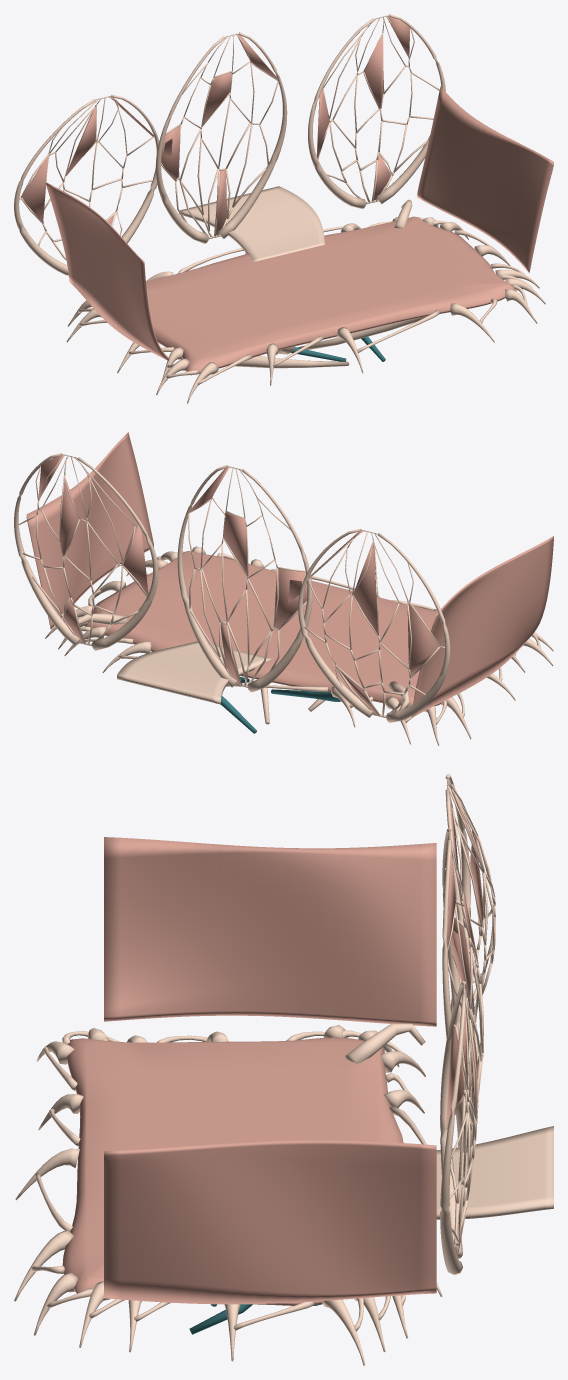
File: membrane_room.glb
3 views of the same model, one above another, from view 1: azimuth 30°, elevation 25°; view 2: azimuth 150°, elevation 25°; view 3: azimuth 270°, elevation 25° (orthographic). The views are drawn at different scales.
Visible parts, largest first — view 1: Continuous_Playable_Membrane, Side_Fold_R, Side_Fold_L, Rear_Folded_Vault_01, Rear_Folded_Vault_02, Growing_Costal_Roots, Rear_Folded_Vault_00, Rear_Meandering_Causeway, Branching_Underside_Rib_00, Branching_Underside_Rib_02; view 2: Continuous_Playable_Membrane, Side_Fold_L, Side_Fold_R, Rear_Folded_Vault_01, Rear_Folded_Vault_00, Rear_Folded_Vault_02, Rear_Meandering_Causeway, Growing_Costal_Roots, Branching_Underside_Rib_01, Rear_Vault_Connecting_Root_01; view 3: Side_Fold_L, Side_Fold_R, Continuous_Playable_Membrane, Growing_Costal_Roots, Rear_Folded_Vault_02, Rear_Meandering_Causeway, Rear_Folded_Vault_01, Rear_Folded_Vault_00, Rear_Vault_Connecting_Root_00.
Part boxes in pixels (<box>): Continuous_Playable_Membrane: <box>146,216,516,375</box>; Side_Fold_R: <box>417,86,553,272</box>; Side_Fold_L: <box>46,182,168,360</box>; Rear_Folded_Vault_01: <box>155,32,287,243</box>; Rear_Folded_Vault_02: <box>308,14,445,208</box>; Growing_Costal_Roots: <box>66,217,545,403</box>; Rear_Folded_Vault_00: <box>14,94,159,275</box>; Rear_Meandering_Causeway: <box>179,186,324,261</box>; Branching_Underside_Rib_00: <box>227,355,349,368</box>; Branching_Underside_Rib_02: <box>297,316,426,349</box>; Continuous_Playable_Membrane: <box>85,551,441,707</box>; Side_Fold_L: <box>412,536,553,717</box>; Side_Fold_R: <box>26,432,153,629</box>; Rear_Folded_Vault_01: <box>177,465,312,692</box>; Rear_Folded_Vault_00: <box>298,528,450,722</box>; Rear_Folded_Vault_02: <box>14,453,158,650</box>; Rear_Meandering_Causeway: <box>117,641,272,704</box>; Growing_Costal_Roots: <box>45,546,553,745</box>; Branching_Underside_Rib_01: <box>271,689,362,701</box>; Rear_Vault_Connecting_Root_01: <box>78,613,127,624</box>; Side_Fold_L: <box>104,837,436,1026</box>; Side_Fold_R: <box>104,1140,436,1304</box>; Continuous_Playable_Membrane: <box>62,1037,403,1305</box>; Growing_Costal_Roots: <box>14,1025,442,1365</box>; Rear_Folded_Vault_02: <box>440,981,478,1274</box>; Rear_Meandering_Causeway: <box>436,1126,553,1219</box>; Rear_Folded_Vault_01: <box>442,827,483,1152</box>; Rear_Folded_Vault_00: <box>445,774,495,1020</box>; Rear_Vault_Connecting_Root_00: <box>345,1023,425,1063</box>.
Size of the model in its own units: 20.43 by 13.25 by 14.28.
